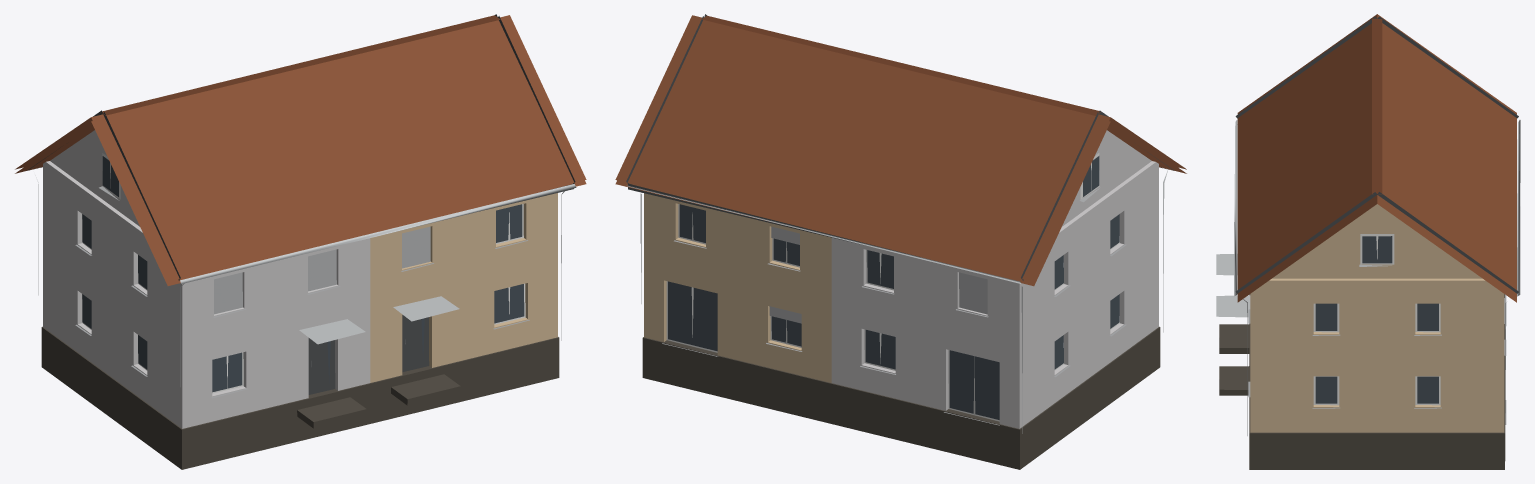
File: house-semi-lod1.glb
3 views of the same model, side by side, from view 1: azimuth 30°, elevation 25°; view 2: azimuth 150°, elevation 25°; view 3: azimuth 270°, elevation 25° (orthographic). The views are drawn at different scales.
Visible parts, largest first — view 1: house-semi-plaster0.001; view 2: house-semi-plaster0.001; view 3: house-semi-plaster0.001.
Boxes of the visible parts, x1,y1,x2,y2 form: house-semi-plaster0.001: (15, 14, 586, 469); house-semi-plaster0.001: (615, 14, 1186, 469); house-semi-plaster0.001: (1216, 14, 1520, 469).
Size of the model in its own units: 15.6 by 11.02 by 10.78.
